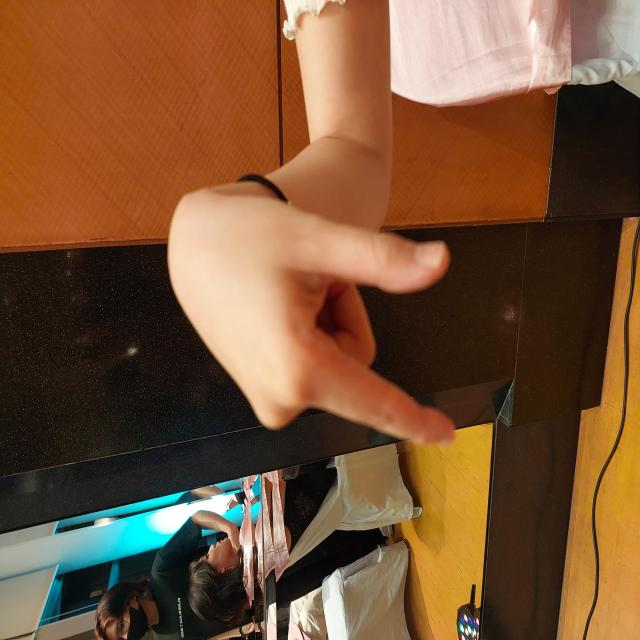Q: (190, 166, 449, 457)
